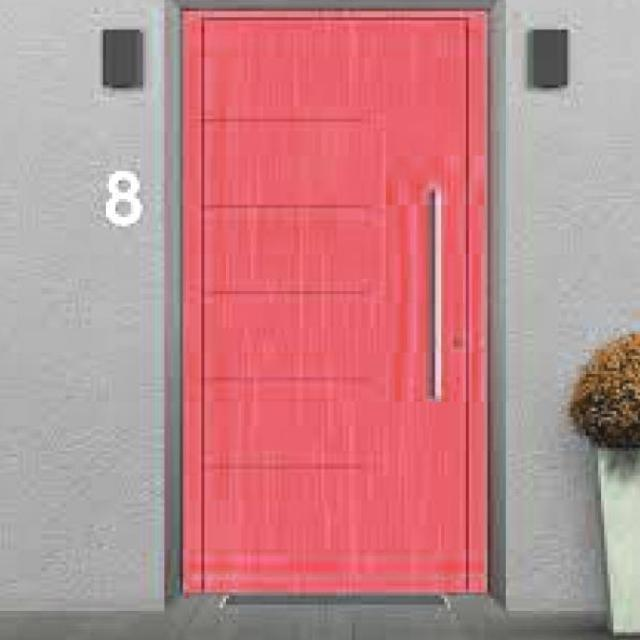door: (180, 7, 488, 597)
